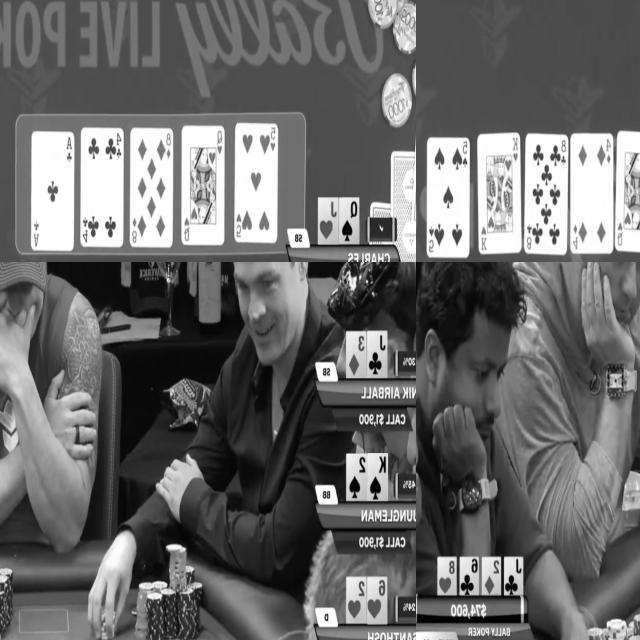2D: (483, 558, 500, 595)
2H: (346, 577, 368, 624)
2S: (346, 454, 367, 499)
3D: (346, 332, 368, 378)
6C: (460, 558, 478, 595)
6H: (367, 578, 387, 625)
8H: (438, 558, 456, 596)
JC: (367, 330, 387, 380), (504, 558, 522, 595)
JH: (317, 197, 339, 245)
KS: (367, 453, 388, 501)
QS: (339, 197, 359, 247)
